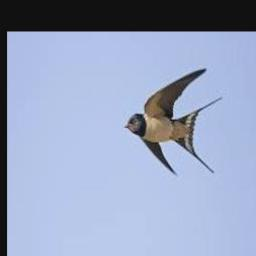Swallow: (124, 67, 224, 175)
